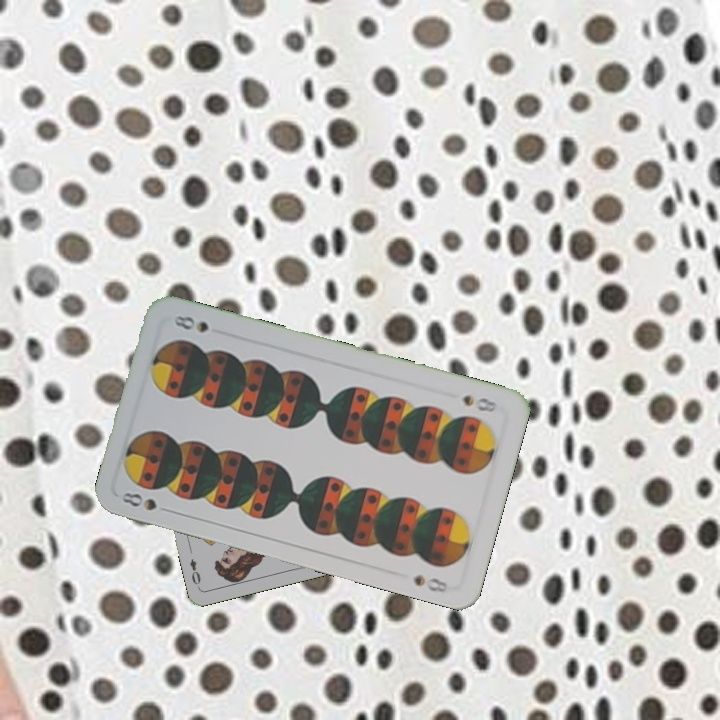S8: (116, 488, 159, 513), (459, 391, 501, 415)
